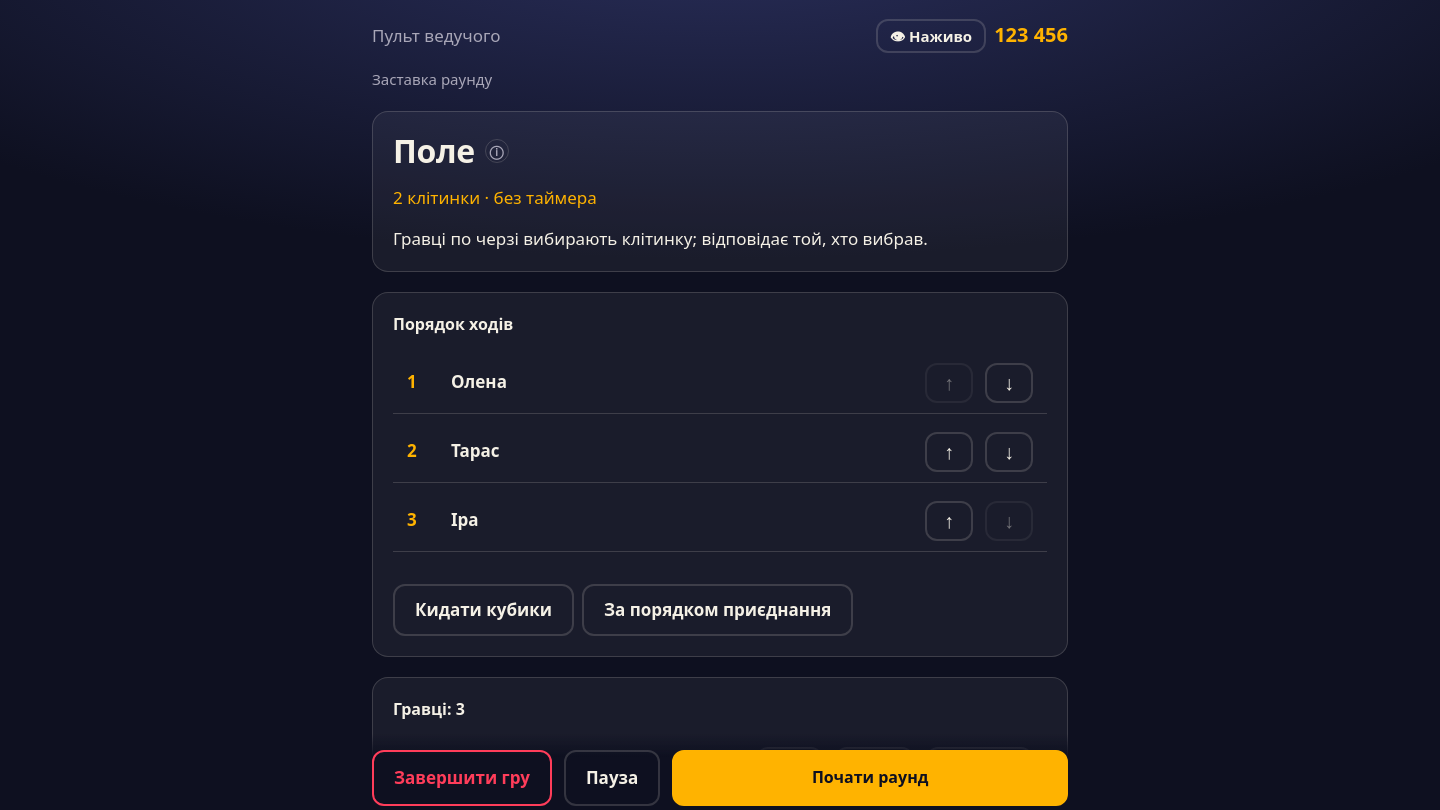
Test: HostScreen: blitz › board round › disables the order buttons while an order send is pending
Click the button named "Опустити Олена".
click(1009, 383)  # box x1=985 y1=363 x2=1033 y2=403
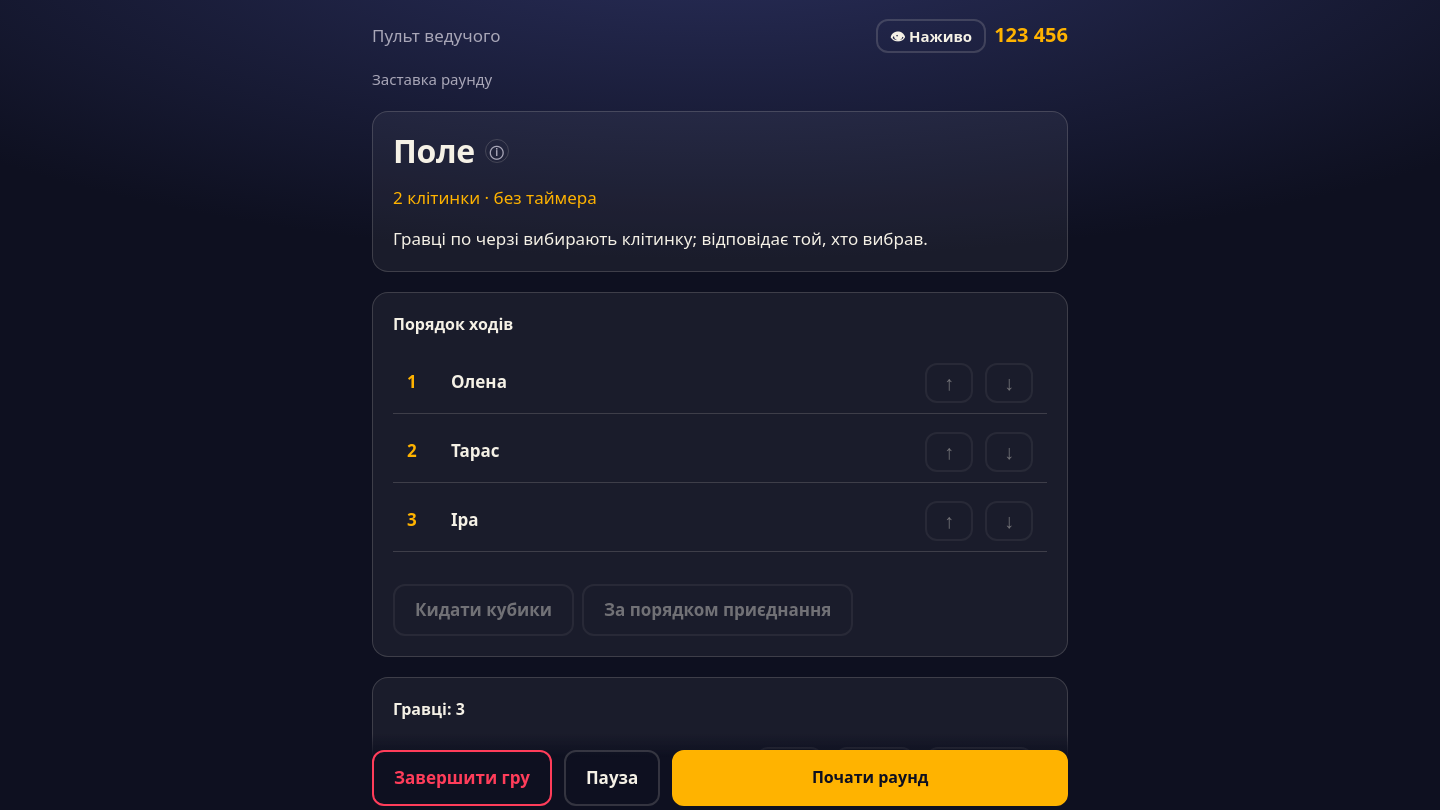
Expected: the button "За порядком приєднання" is disabled, x1=582 y1=584 x2=853 y2=636
Click the button named "Опустити Тарас".
click(1009, 452)  # box x1=985 y1=432 x2=1033 y2=472
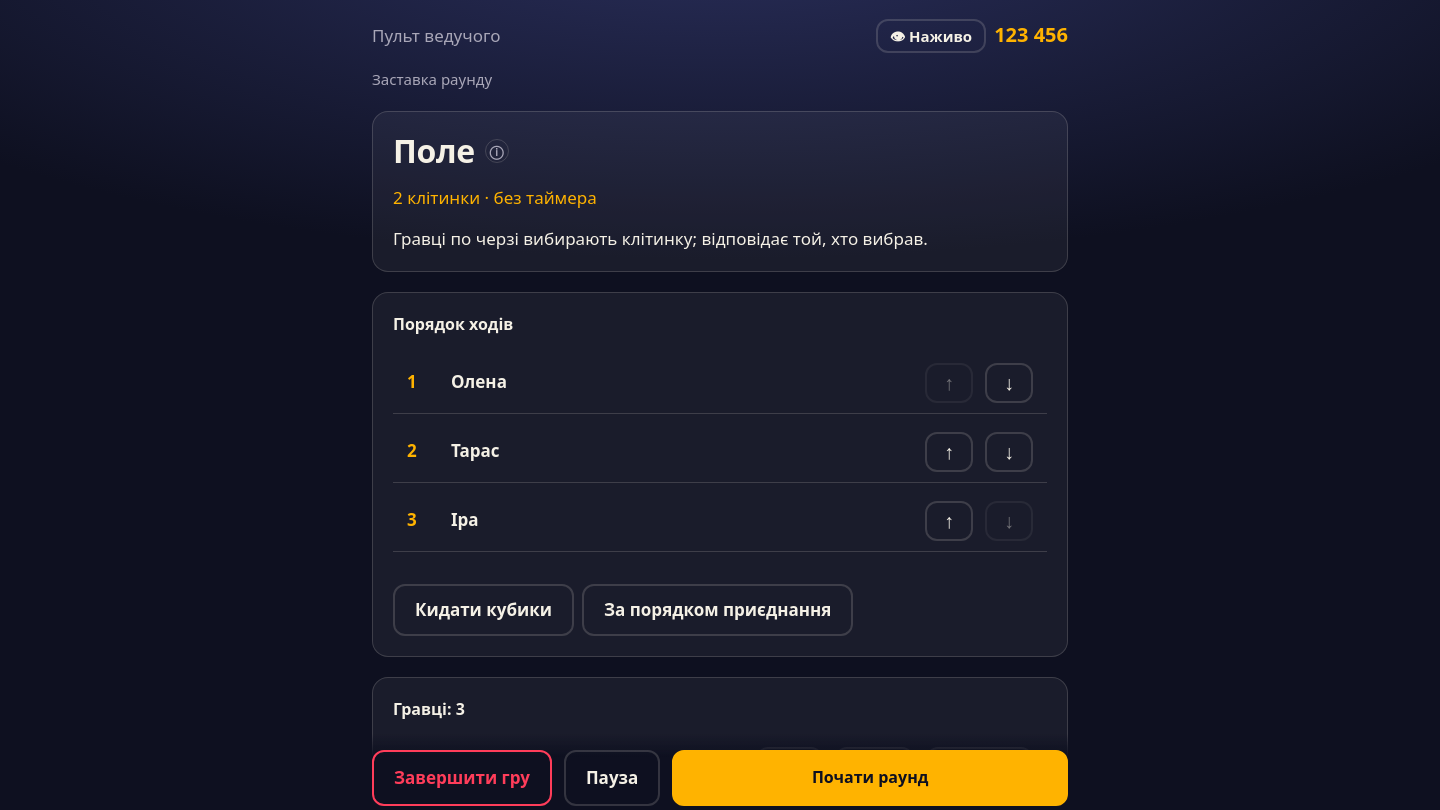
Expected: the button "За порядком приєднання" is enabled, x1=582 y1=584 x2=853 y2=636
